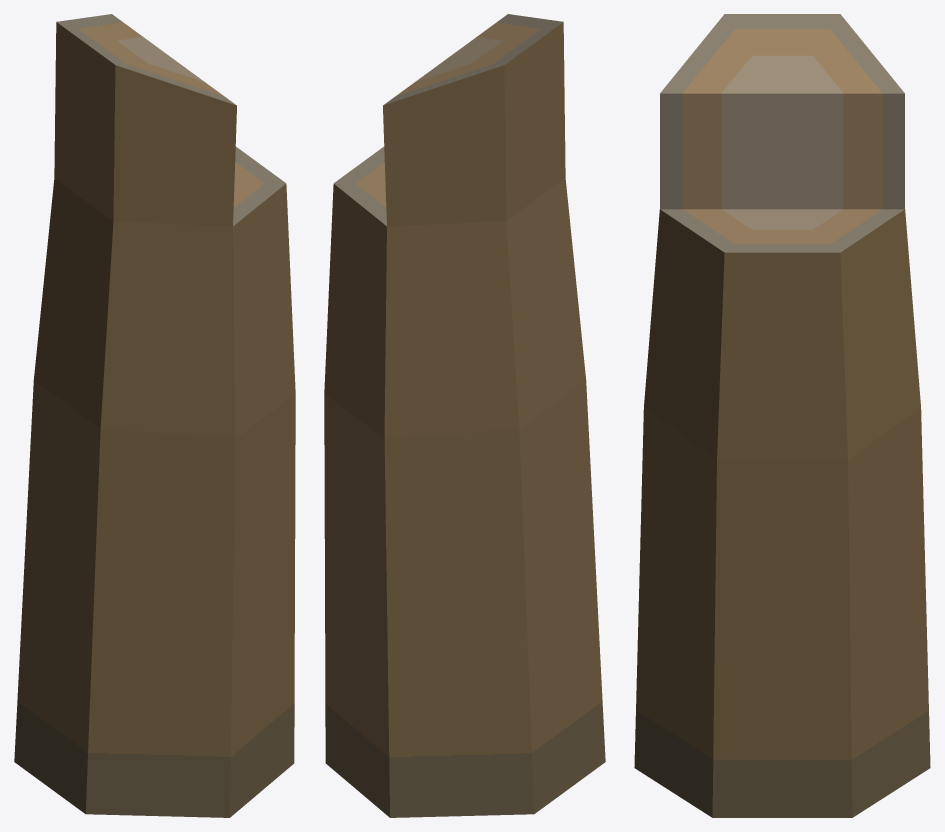
The model's file is AshStump.fbx.
The picture shows the model from 3 angles, left to right: view 1: azimuth 30°, elevation 25°; view 2: azimuth 150°, elevation 25°; view 3: azimuth 270°, elevation 25°; orthographic projection. The views are drawn at different scales.
Parts seen in each view (by area): view 1: AshStump; view 2: AshStump; view 3: AshStump.
Boxes of the visible parts, x1,y1,x2,y2 form: AshStump: (14,14,295,817); AshStump: (324,14,605,817); AshStump: (634,14,930,817).
Bounding box in the file's own units: 0.9766 × 3.24 × 1.2.
